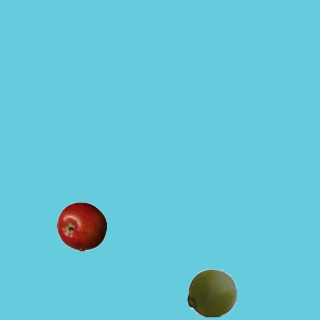Apple Braeburn: (56, 201, 106, 251)
Grape White 4: (186, 267, 236, 317)
